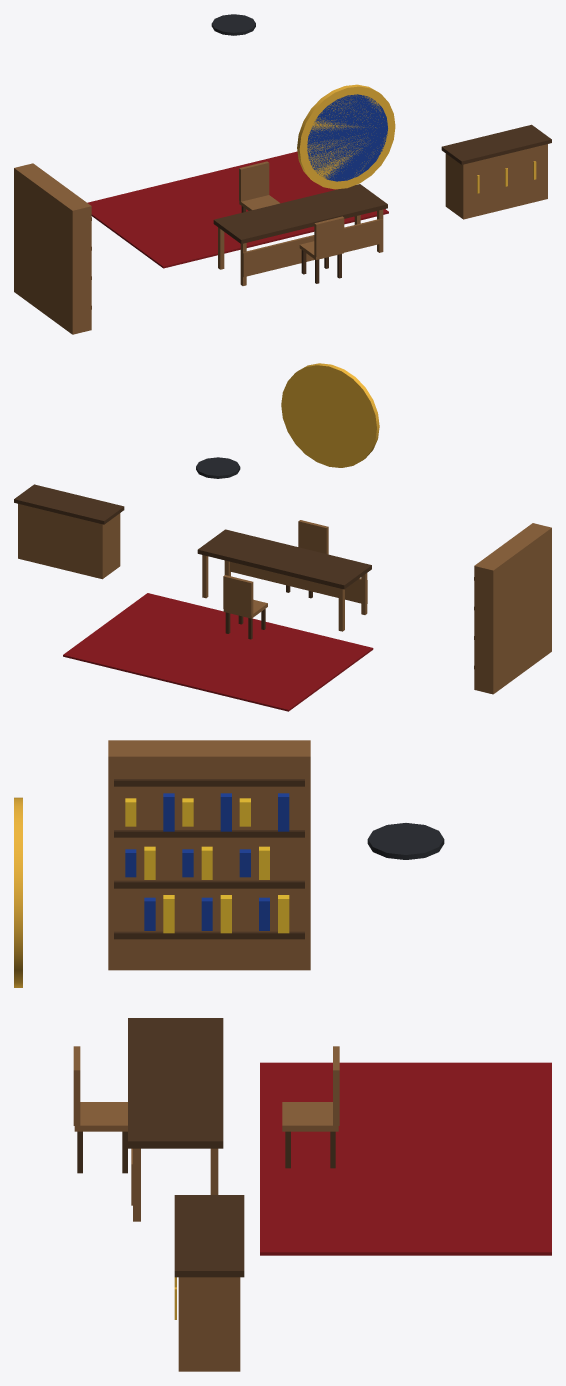
File: SM_Interior_academy_crowler_office_Props.fbx
3 renders of one model, top to bottom at view 1: azimuth 30°, elevation 25°; view 2: azimuth 150°, elevation 25°; view 3: azimuth 270°, elevation 25°, orthographic. The views are drawn at different scales.
Visible parts, largest first — view 1: SM_Interior_academy_crowler_office_Props; view 2: SM_Interior_academy_crowler_office_Props; view 3: SM_Interior_academy_crowler_office_Props.
Boxes of the visible parts, x1,y1,x2,y2 form: SM_Interior_academy_crowler_office_Props: [14, 14, 551, 334]; SM_Interior_academy_crowler_office_Props: [14, 363, 551, 711]; SM_Interior_academy_crowler_office_Props: [14, 740, 551, 1371].
Bounding box in the file's own units: 8.84 × 3.5 × 4.79.
